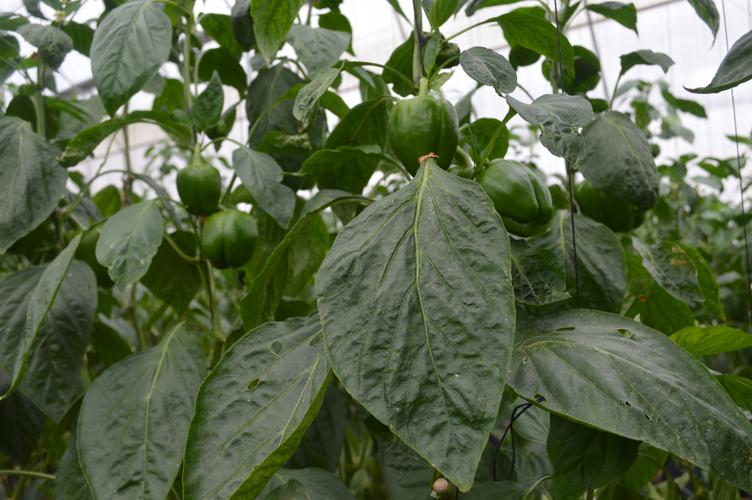BellPepper: (474, 158, 563, 248), (384, 85, 460, 174), (197, 209, 262, 269), (173, 160, 224, 213)
